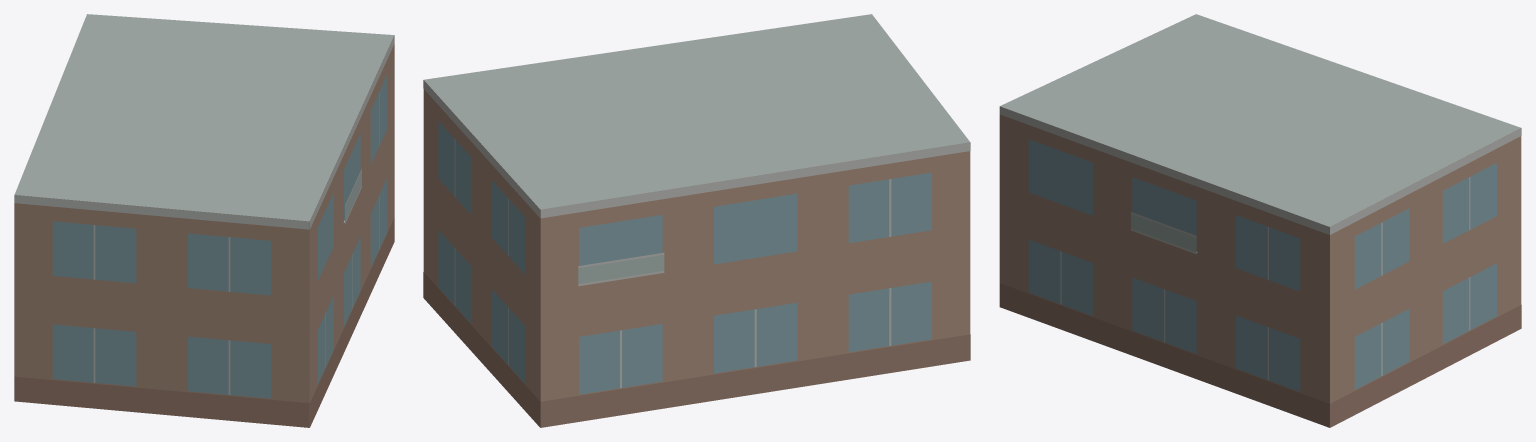
The model's file is survey-upis-32658853.glb.
The picture shows the model from 3 angles, left to right: view 1: azimuth 30°, elevation 25°; view 2: azimuth 150°, elevation 25°; view 3: azimuth 270°, elevation 25°; orthographic projection. The views are drawn at different scales.
Parts seen in each view (by area): view 1: survey-upis-32658853.tmp; view 2: survey-upis-32658853.tmp; view 3: survey-upis-32658853.tmp.
Boxes of the visible parts, <box> form: survey-upis-32658853.tmp: <box>14,14,394,427</box>; survey-upis-32658853.tmp: <box>423,14,970,427</box>; survey-upis-32658853.tmp: <box>999,14,1521,427</box>.
Bounding box in the file's own units: 13.89 × 6.1 × 14.37.
